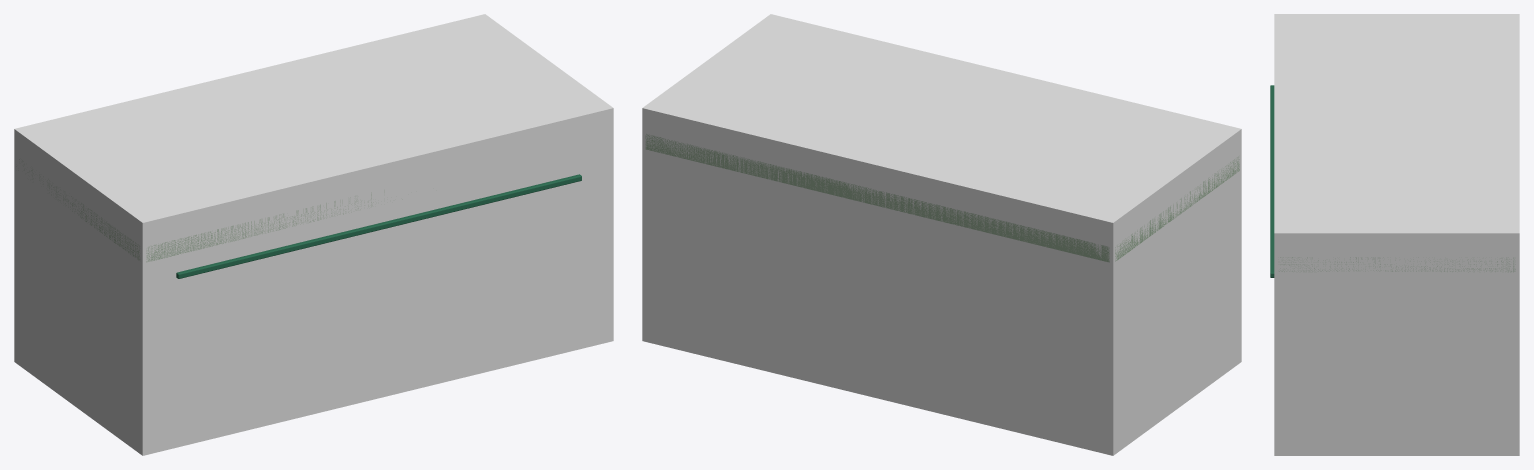
The model's file is office-desk_retail.glb.
3 renders of one model, left to right at view 1: azimuth 30°, elevation 25°; view 2: azimuth 150°, elevation 25°; view 3: azimuth 270°, elevation 25°, orthographic. The views are drawn at different scales.
Parts seen in each view (by area): view 1: COL_office-desk, MESH_TierTrim_01, MESH_Worktop; view 2: COL_office-desk, MESH_Worktop; view 3: COL_office-desk, MESH_TierTrim_01, MESH_Worktop.
Boxes of the visible parts, box(x1,y1,x2,y2) form: COL_office-desk: box(14, 14, 613, 455); MESH_TierTrim_01: box(176, 174, 581, 278); MESH_Worktop: box(16, 159, 402, 262); COL_office-desk: box(642, 14, 1241, 455); MESH_Worktop: box(645, 134, 1239, 262); COL_office-desk: box(1274, 14, 1519, 455); MESH_TierTrim_01: box(1270, 85, 1274, 277); MESH_Worktop: box(1279, 257, 1515, 272).
Bounding box in the file's own units: 1.65 × 0.78 × 0.793.
